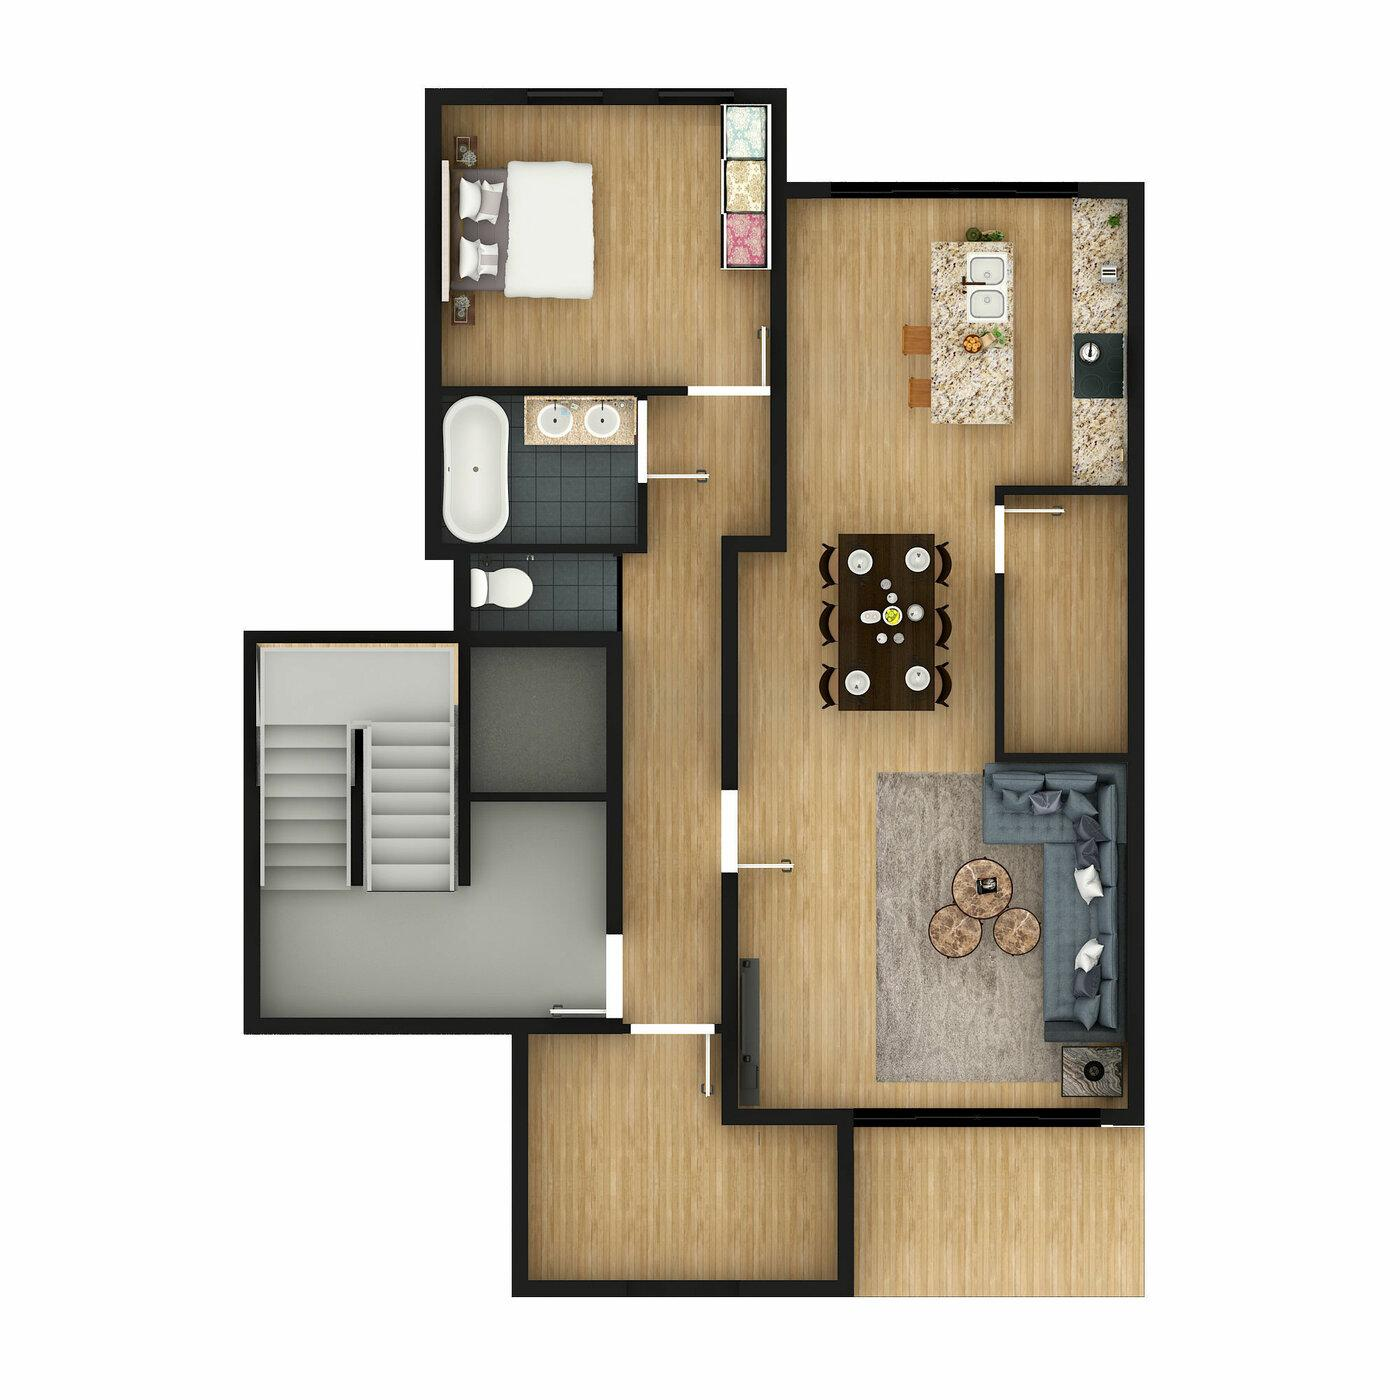room: (735, 185, 1155, 1117), (432, 96, 773, 388), (518, 1022, 847, 1288), (432, 391, 638, 547), (462, 550, 619, 637)
